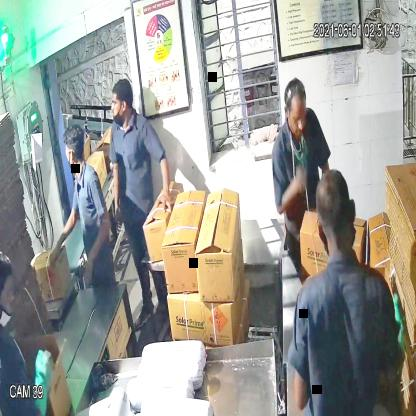no_goggles: (280, 104, 312, 129)
